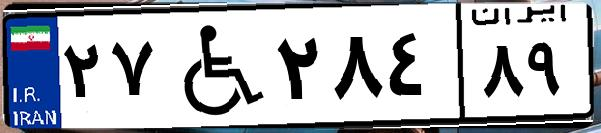2: (270, 28, 330, 110), (57, 26, 110, 100)
4: (385, 28, 445, 110)
7: (110, 28, 158, 98)
8: (330, 28, 385, 110), (475, 38, 525, 113)
9: (525, 38, 570, 115)
ژ (معلولین و جانبازان): (158, 12, 270, 120)
